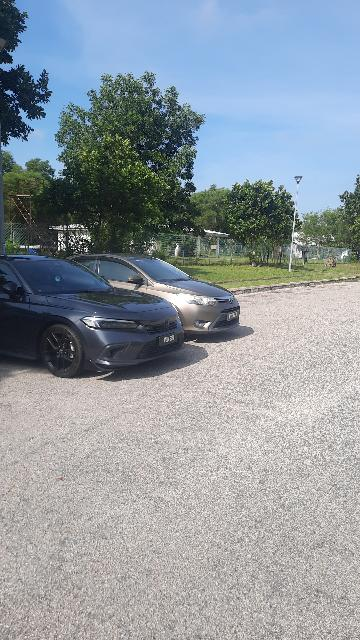License_Plate: (158, 333, 182, 348), (229, 311, 241, 323)
car: (2, 250, 263, 380)
